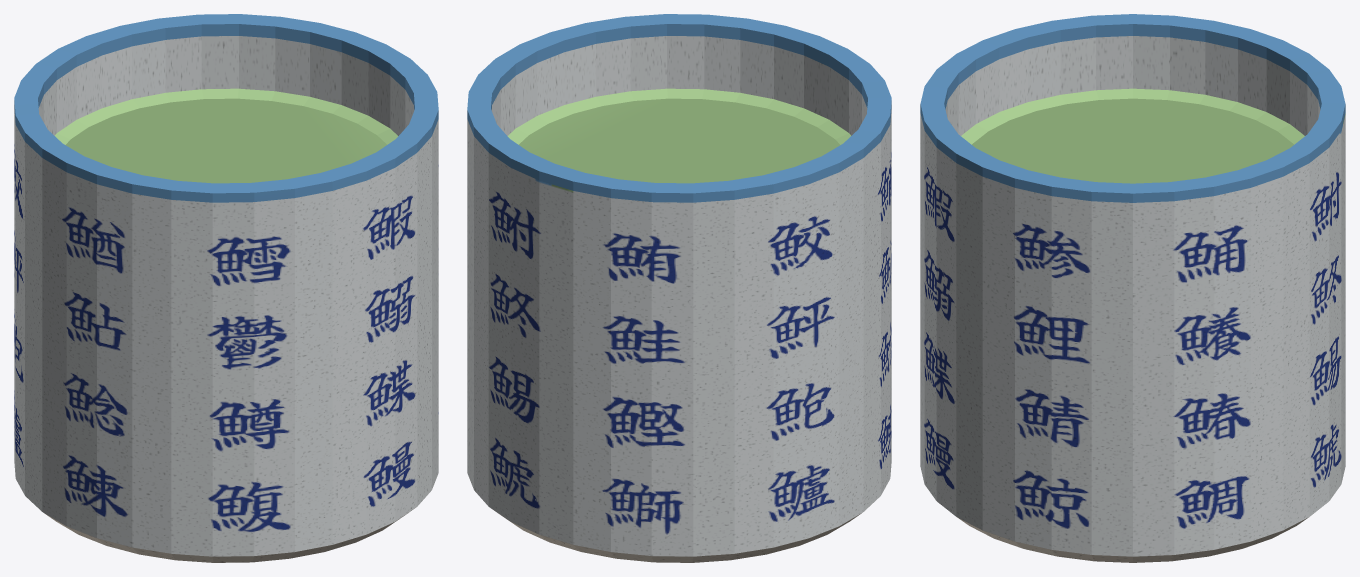
File: yunomi.fbx
The picture shows the model from 3 angles, left to right: view 1: azimuth 30°, elevation 25°; view 2: azimuth 150°, elevation 25°; view 3: azimuth 270°, elevation 25°; orthographic projection.
Visible parts, largest first — view 1: Cylinder; view 2: Cylinder; view 3: Cylinder.
Boxes of the visible parts, x1,y1,x2,y2 form: Cylinder: (14, 14, 438, 562); Cylinder: (467, 14, 891, 562); Cylinder: (920, 14, 1345, 562).
Bounding box in the file's own units: 200 × 195 × 200.
